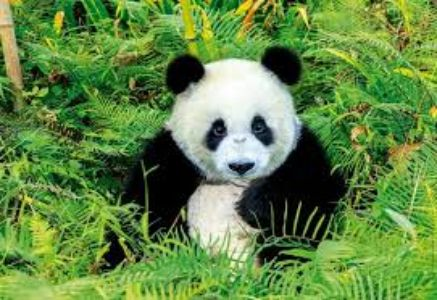bear: (117, 46, 362, 258)
